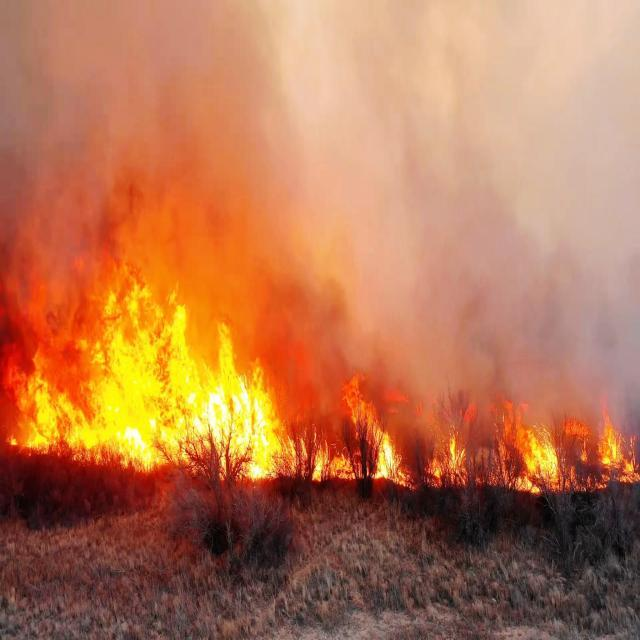Fire: (0, 291, 640, 495)
Smoke: (0, 0, 640, 304)
